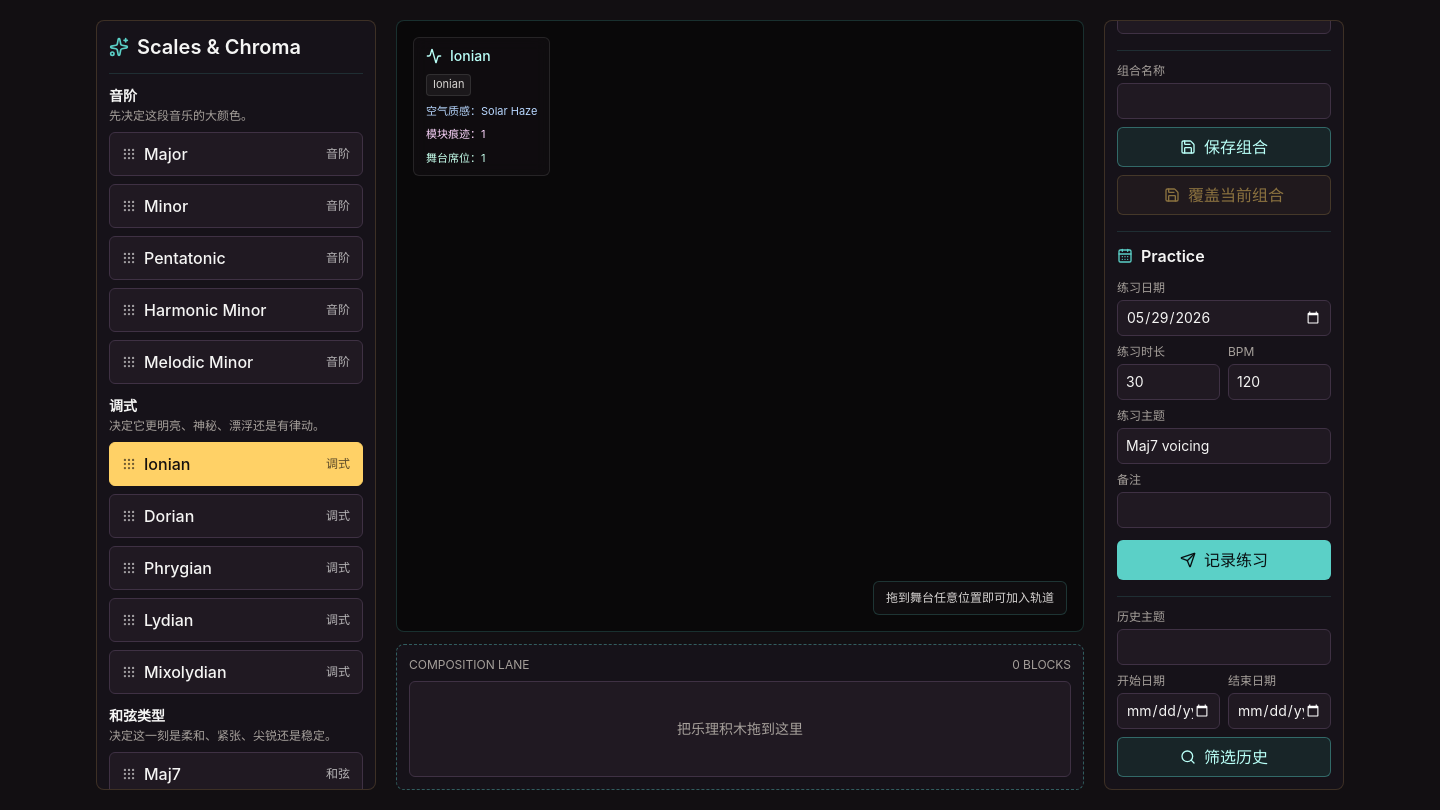
TheorySandbox › filters practice history by topic and date range
The image size is (1440, 810).
(page scrolled)
Type "jazz" into the field labelled "历史主题". click: (1224, 646)
box: x1=1117 y1=628 x2=1331 y2=664
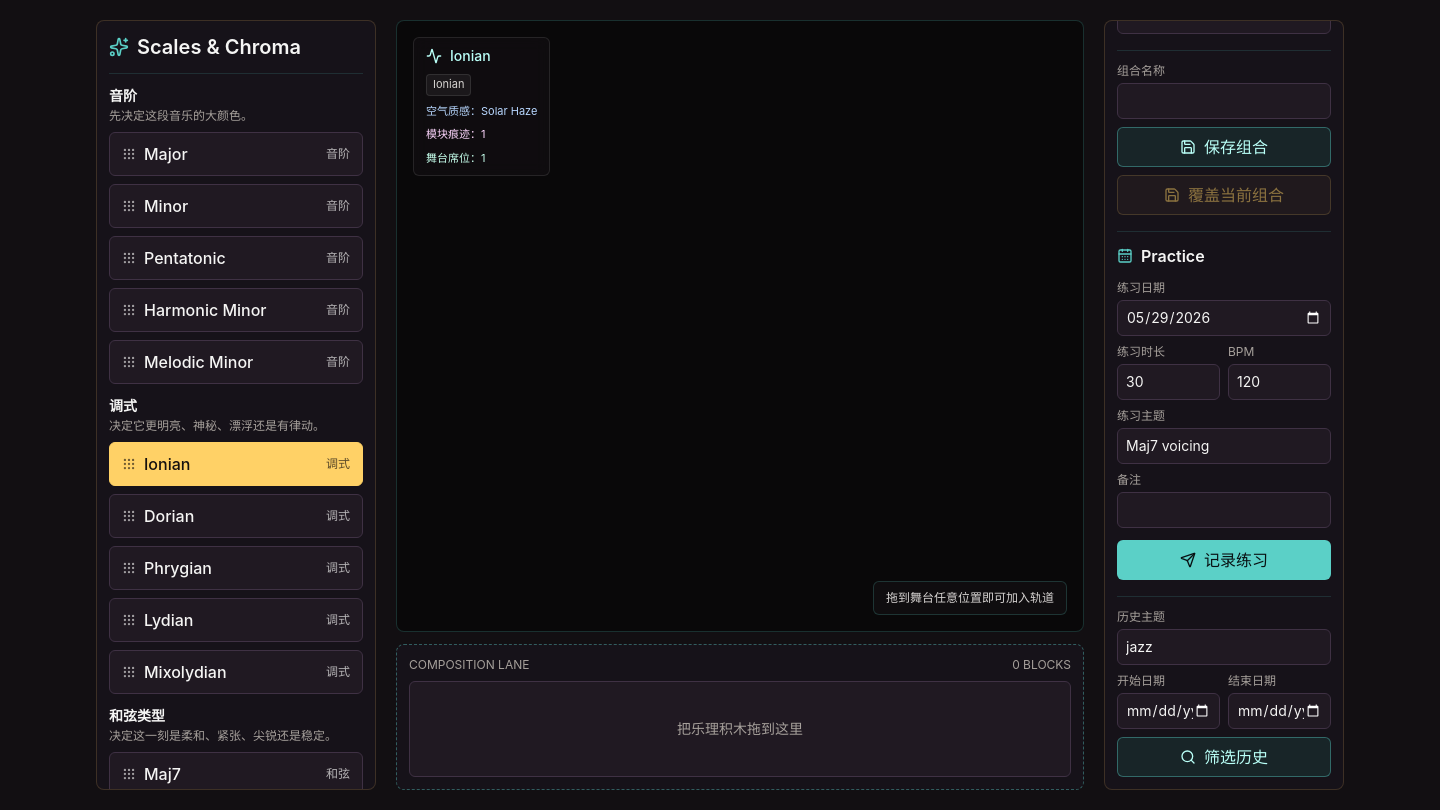
Type "2026-05-01" into the date field labelled "开始日期". click: (1168, 710)
box: x1=1117 y1=692 x2=1220 y2=728
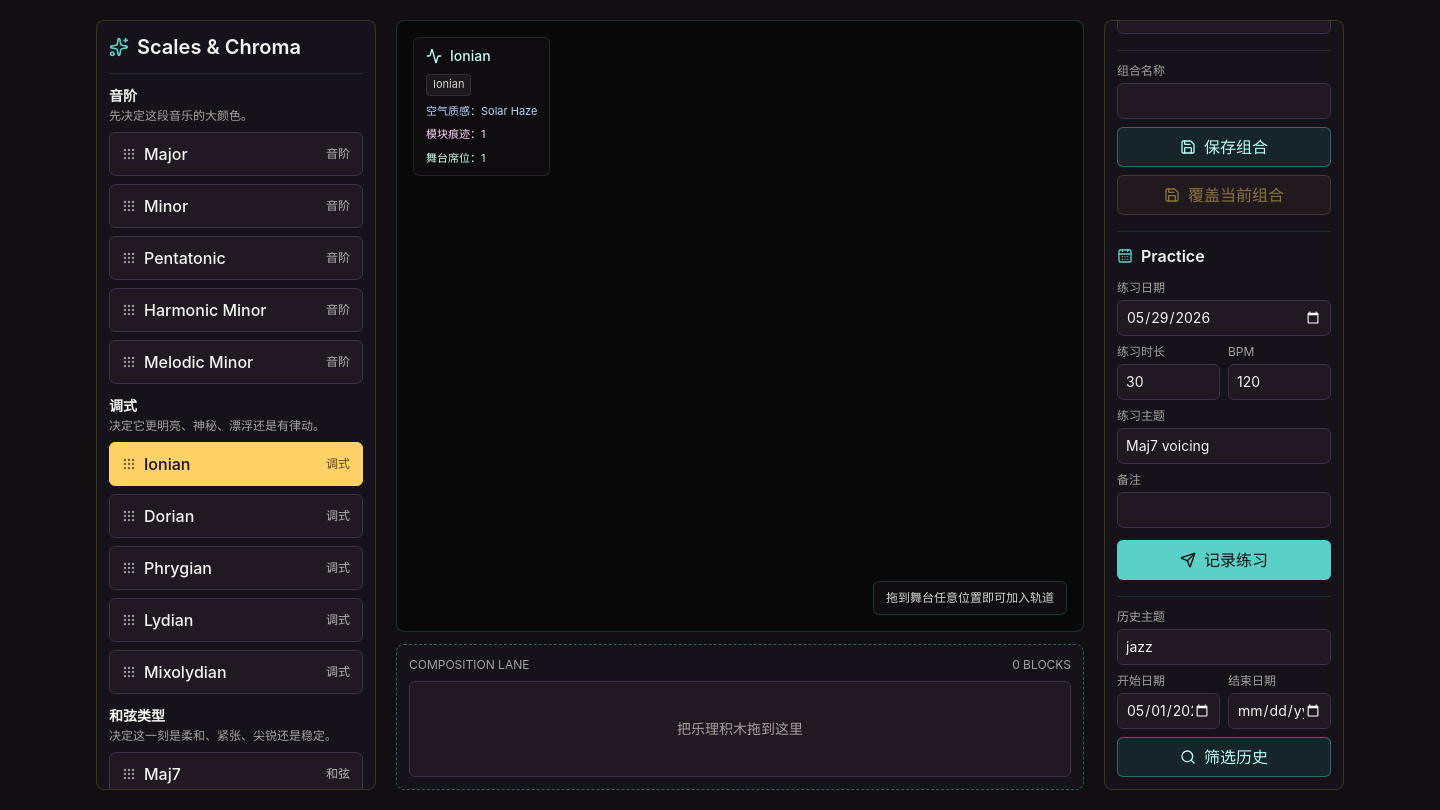
Type "2026-05-31" into the date field labelled "结束日期". click: (1280, 710)
box: x1=1228 y1=692 x2=1331 y2=728
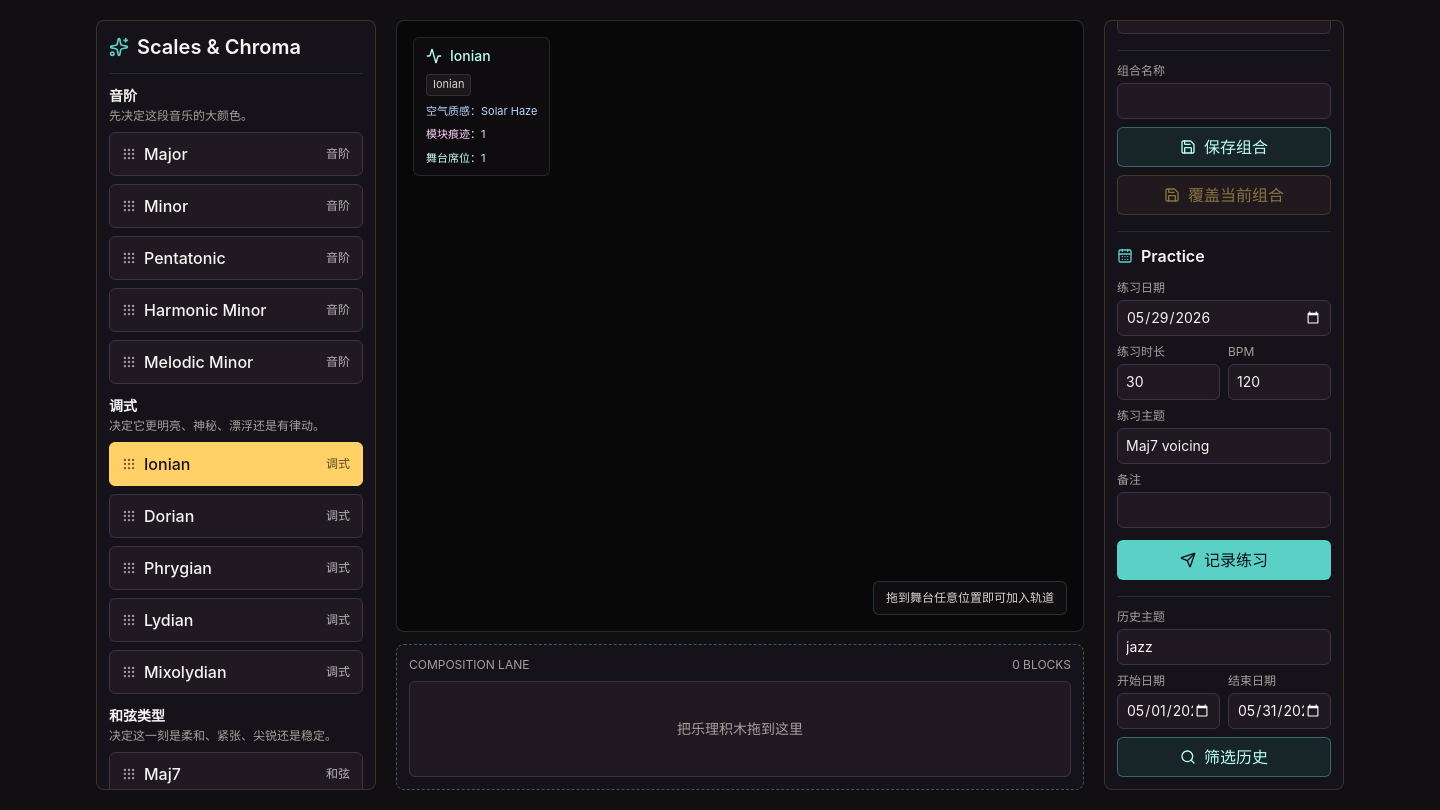
Click the button "筛选历史". click: (1224, 756)
box: x1=1117 y1=736 x2=1331 y2=776
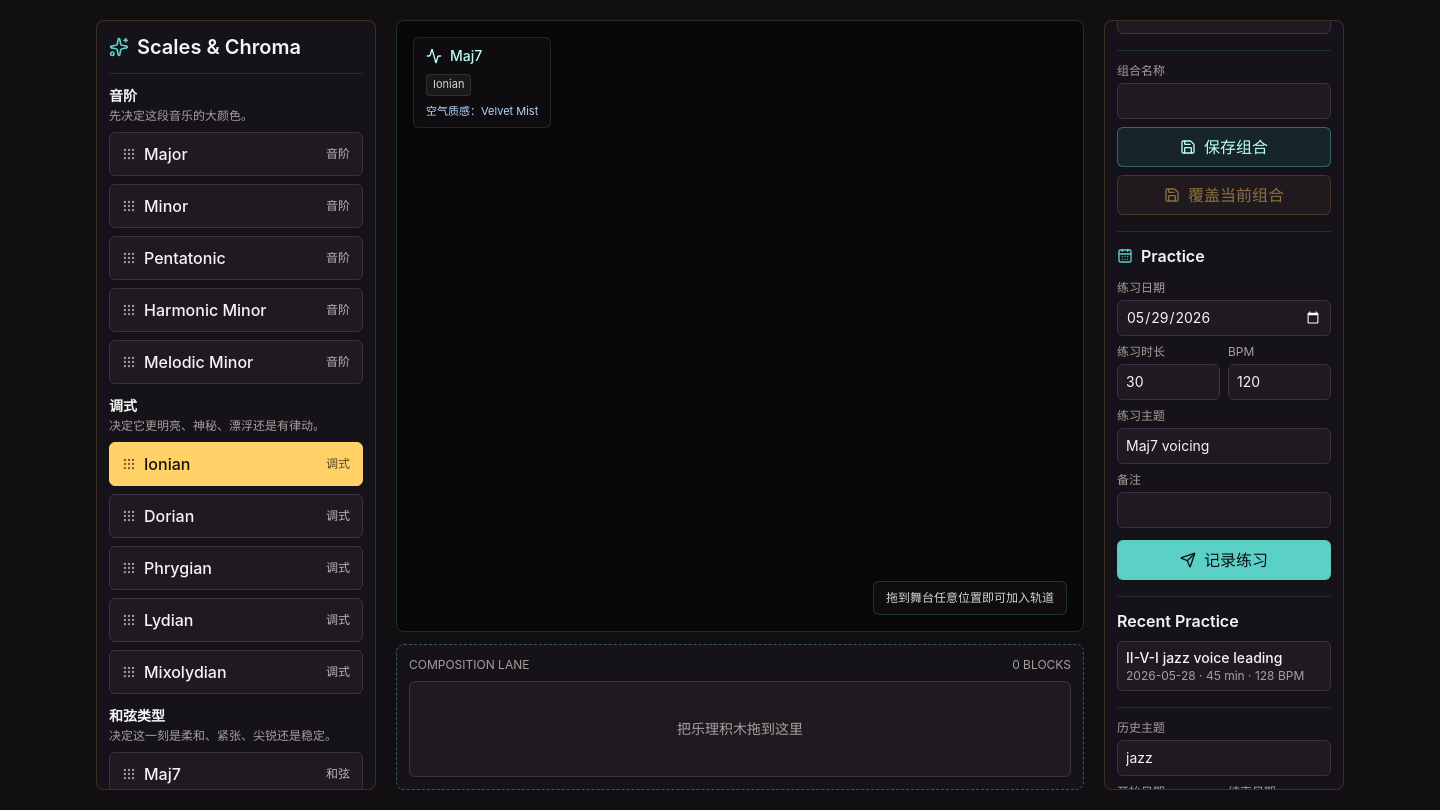
Check: the text "II-V-I jazz voice leading" is shown, box x1=1126 y1=648 x2=1282 y2=666
